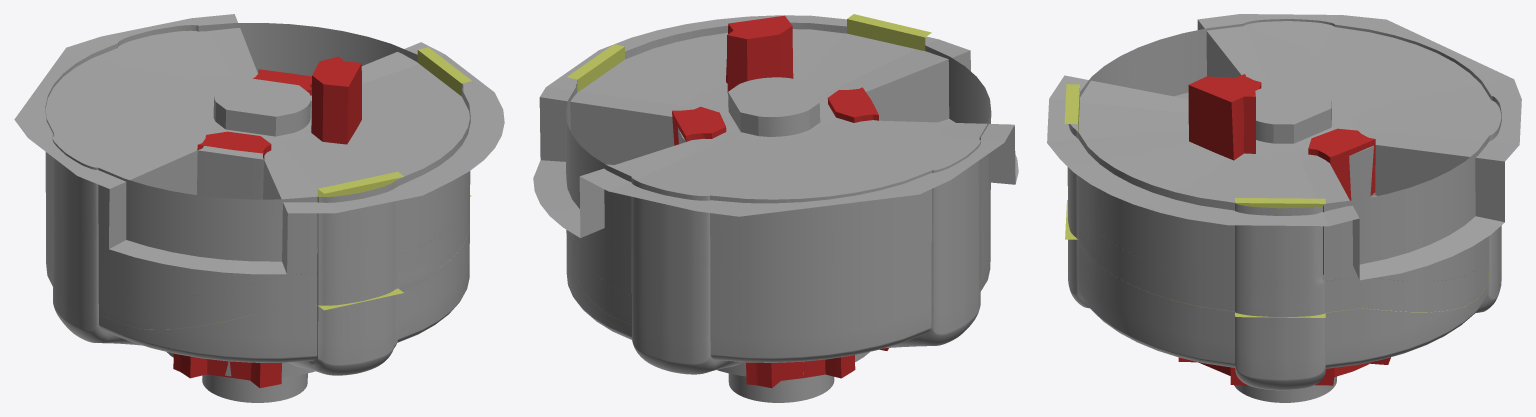
The model's file is Arena_BlockOut69.fbx.
The picture shows the model from 3 angles, left to right: view 1: azimuth 30°, elevation 25°; view 2: azimuth 150°, elevation 25°; view 3: azimuth 270°, elevation 25°; orthographic projection.
Parts seen in each view (by area): view 1: Base, Roof, pasted__Top, Roof_Cap, ndFloor1_polySurface20, pasted__BaseTop, pasted__G_FLoor_Column_Connector4, pasted__Top3, pasted__G_FLoor_Column_Connector2; view 2: Base, Roof, pasted__Top, ndFloor1_polySurface20, Roof_Cap, pasted__Top3, pasted__BaseTop, pasted__G_FLoor_Column_Connector3, pasted__Column4, pasted__G_FLoor_Column_Connector2; view 3: Base, Roof, pasted__Top, Roof_Cap, pasted__Top3, ndFloor1_polySurface20.
Part boxes in pixels (box(x1,y1,x2,y2)): Base: box(45, 23, 470, 402); Roof: box(14, 14, 504, 274); pasted__Top: box(311, 56, 361, 144); Roof_Cap: box(214, 78, 310, 116); ndFloor1_polySurface20: box(123, 47, 471, 329); pasted__BaseTop: box(197, 131, 271, 380); pasted__G_FLoor_Column_Connector4: box(250, 362, 281, 388); pasted__Top3: box(253, 69, 311, 95); pasted__G_FLoor_Column_Connector2: box(173, 353, 207, 378); Base: box(565, 22, 991, 402); Roof: box(533, 15, 1018, 237); pasted__Top: box(726, 15, 793, 92); ndFloor1_polySurface20: box(566, 14, 931, 324); Roof_Cap: box(728, 77, 819, 117); pasted__Top3: box(672, 106, 726, 145); pasted__BaseTop: box(827, 87, 878, 122); pasted__G_FLoor_Column_Connector3: box(746, 362, 780, 388); pasted__Column4: box(780, 359, 825, 380); pasted__G_FLoor_Column_Connector2: box(825, 348, 888, 378); Base: box(1067, 19, 1501, 402); Roof: box(1047, 14, 1521, 280); pasted__Top: box(1188, 76, 1255, 160); Roof_Cap: box(1255, 82, 1331, 124); pasted__Top3: box(1308, 128, 1375, 200); ndFloor1_polySurface20: box(1064, 84, 1488, 317).
Bounding box in the file's own units: 53221 × 39455 × 53383.
